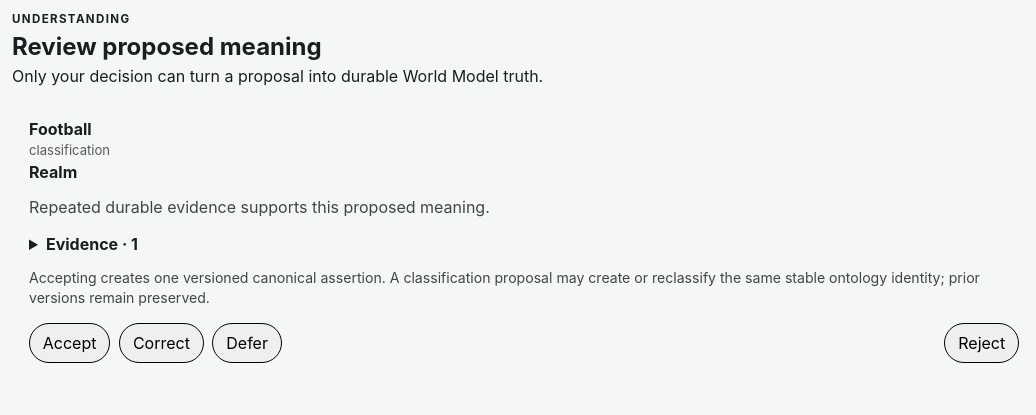
Test: CandidateReview › keeps a deferred candidate reviewable
Click the button "Defer" at (247, 343), box [212,323,282,363]
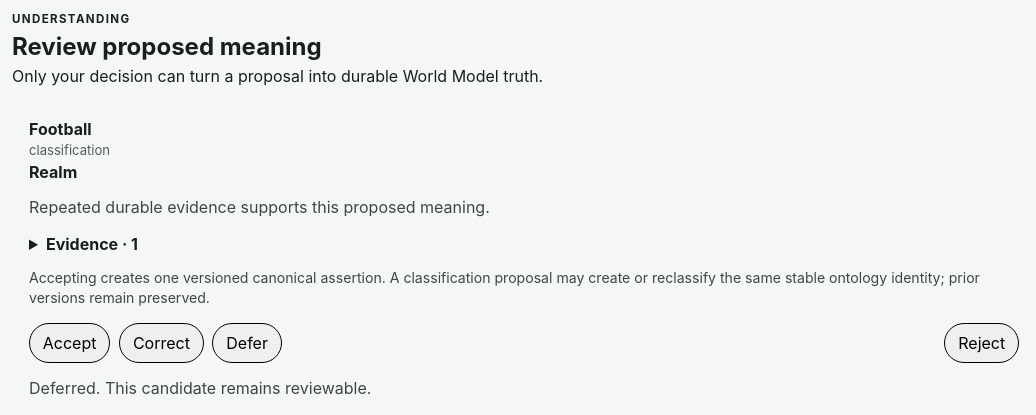
Expected: the text "Football" is shown, [29,119,92,139]
Expected: the text "Deferred. This candidate remains reviewable." is shown, [29,378,371,398]
